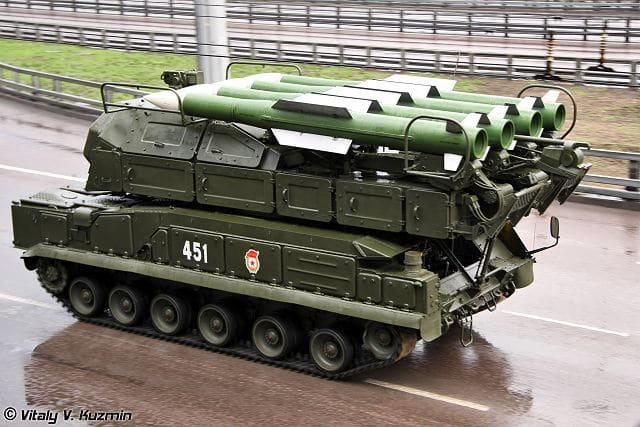armored_car: (9, 64, 600, 384)
